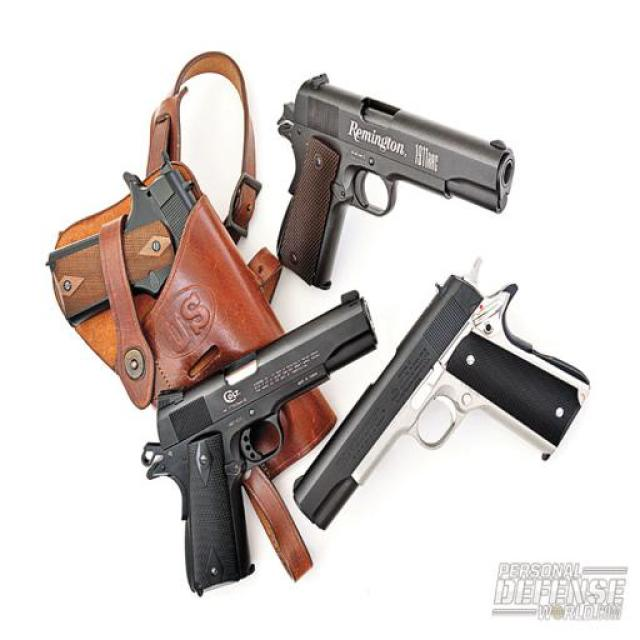pistol: (291, 245, 609, 539), (139, 278, 380, 589), (253, 50, 524, 286)
